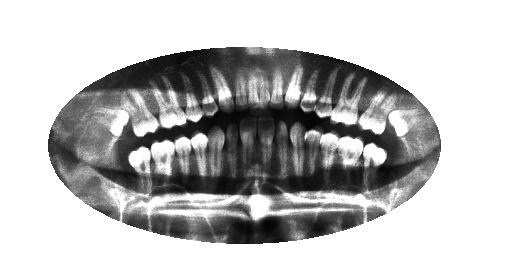i10decay: (224, 115, 241, 178)
i11decay: (204, 122, 227, 176)
i12healthy: (186, 128, 212, 180)
i13healthy: (171, 132, 194, 178)
i14healthy: (146, 135, 179, 190)
i15healthy: (126, 145, 158, 192)
i1loss: (381, 152, 407, 193)
i2healthy: (359, 139, 388, 196)
i3healthy: (336, 134, 364, 191)
i4healthy: (318, 129, 338, 191)
i5healthy: (301, 123, 321, 187)
i6healthy: (288, 116, 307, 187)
i7decay: (274, 117, 292, 182)
i8decay: (257, 113, 276, 184)
i9decay: (238, 114, 261, 180)
u10decay: (231, 61, 250, 109)
u11decay: (208, 60, 237, 113)
u12decay: (194, 63, 220, 117)
u13healthy: (176, 66, 205, 124)
u14healthy: (144, 72, 189, 130)
u15healthy: (116, 83, 164, 139)
u16healthy: (88, 100, 133, 144)
u1healthy: (385, 99, 425, 143)
u2healthy: (358, 76, 399, 137)
u3healthy: (329, 65, 368, 129)
u4healthy: (313, 59, 344, 121)
u5healthy: (300, 61, 320, 115)
u6decay: (282, 58, 306, 112)
u7decay: (268, 56, 286, 110)
u8decay: (256, 60, 272, 109)
u9decay: (245, 58, 259, 108)
